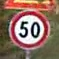limite 50: (7, 9, 50, 50)
